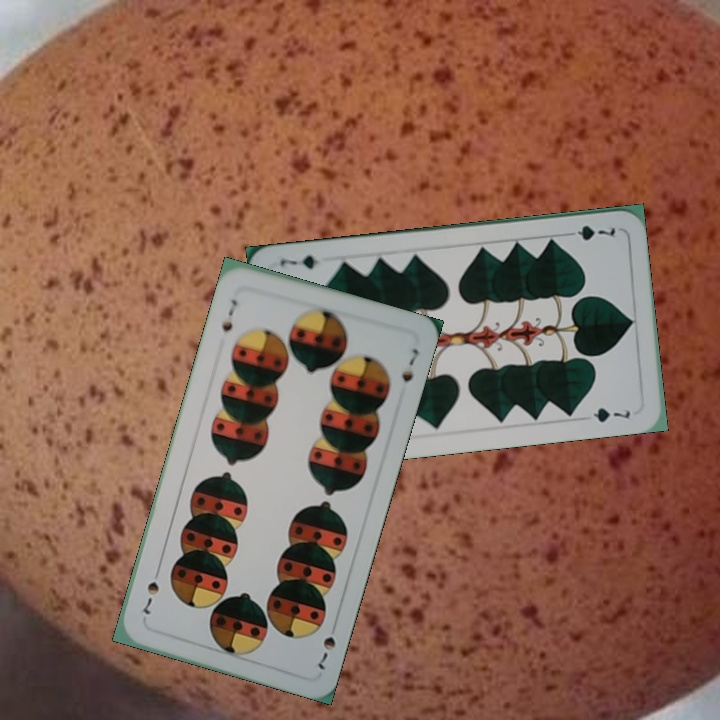G7: (561, 221, 618, 243)
S7: (312, 632, 339, 672), (217, 295, 240, 334)
